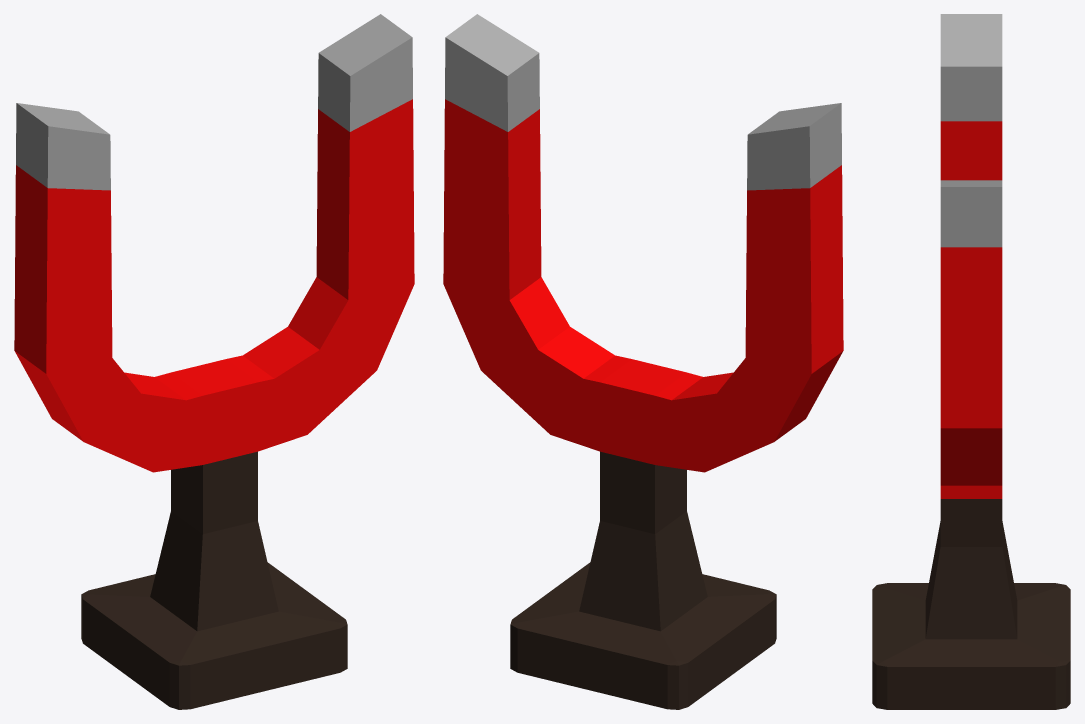
The model's file is Magnet.fbx.
3 views of the same model, side by side, from view 1: azimuth 30°, elevation 25°; view 2: azimuth 150°, elevation 25°; view 3: azimuth 270°, elevation 25° (orthographic). The views are drawn at different scales.
Visible parts, largest first — view 1: Magnet; view 2: Magnet; view 3: Magnet.
Part boxes in pixels (x1=…): Magnet: x1=14, y1=14, x2=414, y2=709; Magnet: x1=443, y1=14, x2=843, y2=709; Magnet: x1=872, y1=14, x2=1070, y2=709.
Size of the model in its own units: 27.83 by 42.14 by 13.33.
